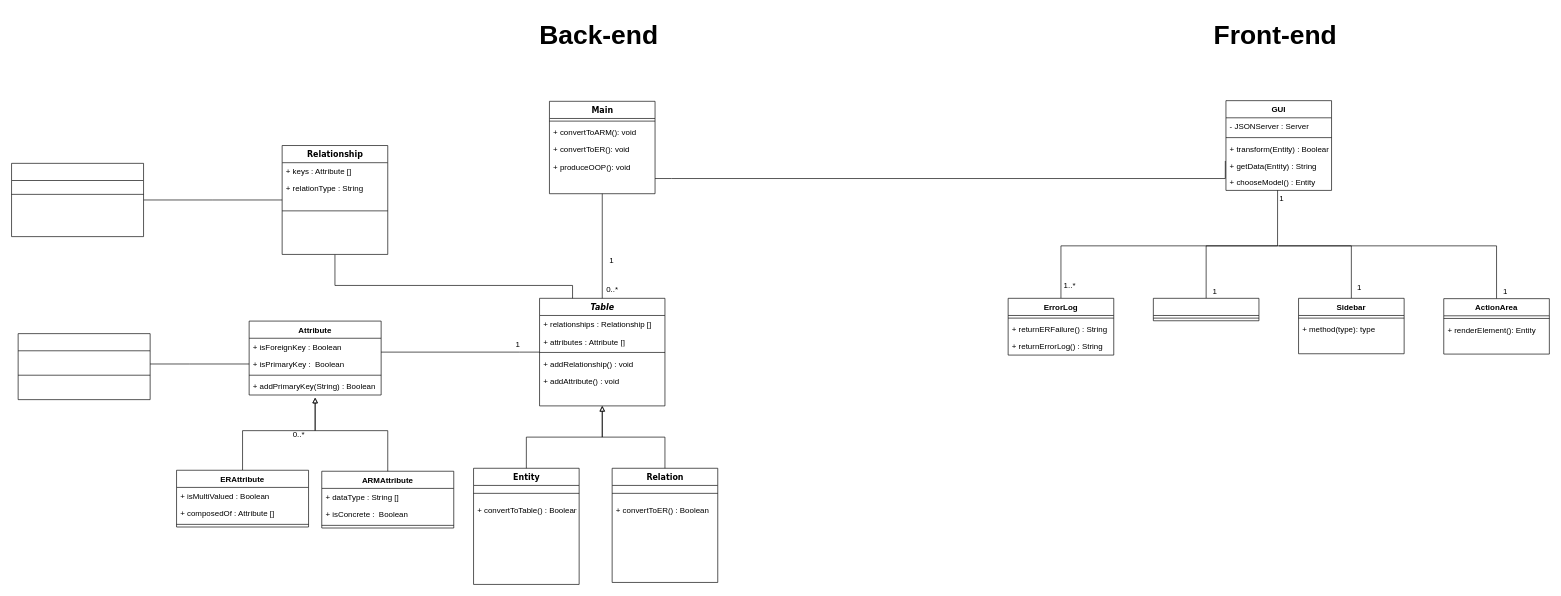
Some shapes in this 1561 by 596 pixel diagram are drawn without their labels. The shapes that lost their labels are listed below. From the top down, each one's centre as x and y in pixels, then its label:
the point at 77,200: RelationType (Enum)
the point at 1206,309: HeaderBar
the point at 83,366: DataType (Enum)
